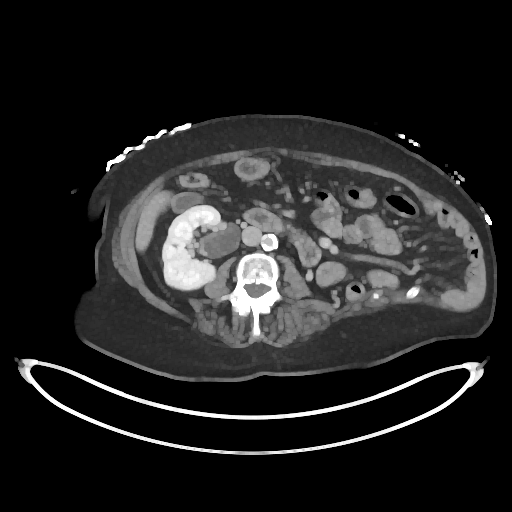Lesion: (169, 236, 181, 252)
